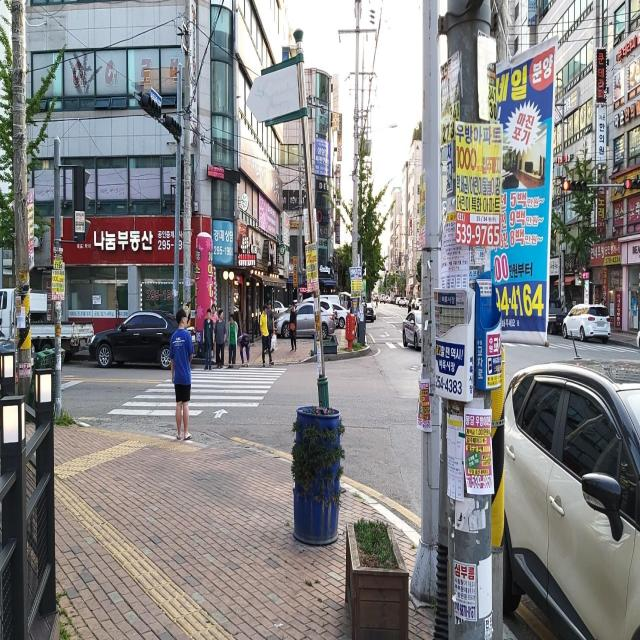횡단보도: (106, 365, 288, 420)
